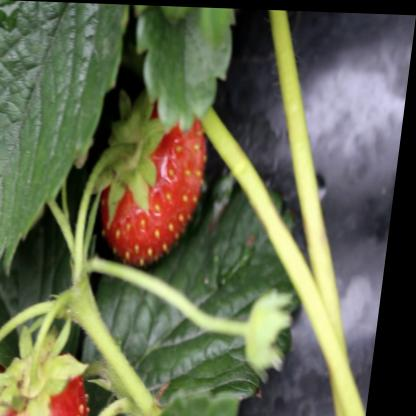ripe: (78, 78, 237, 278), (0, 320, 116, 416)
